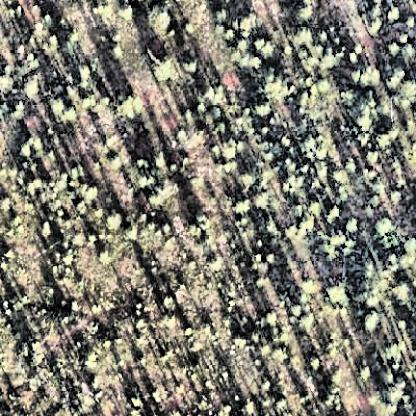tree-top: (140, 4, 172, 36), (151, 55, 183, 86), (262, 72, 294, 103), (113, 90, 143, 122), (350, 99, 376, 133), (51, 97, 79, 123), (353, 63, 380, 89), (134, 167, 160, 194), (325, 280, 352, 305), (384, 252, 414, 273), (235, 12, 259, 37), (384, 68, 408, 92), (254, 35, 279, 57), (383, 382, 406, 405), (189, 215, 209, 241), (101, 149, 123, 172), (394, 279, 415, 303), (362, 309, 384, 331), (147, 186, 169, 208), (252, 99, 275, 120), (22, 76, 43, 99), (233, 195, 255, 216), (97, 246, 119, 267), (294, 26, 316, 47), (51, 172, 72, 194), (1, 74, 18, 101), (17, 139, 37, 161), (238, 171, 259, 191), (301, 276, 322, 296), (376, 214, 396, 235), (81, 184, 101, 205), (355, 365, 374, 386), (253, 190, 275, 208), (221, 136, 238, 159), (107, 210, 126, 230), (205, 255, 225, 274), (326, 205, 345, 224), (299, 312, 318, 331), (388, 40, 406, 60), (297, 2, 316, 20), (387, 4, 406, 22), (307, 200, 326, 218), (148, 385, 167, 403), (12, 99, 31, 117), (270, 347, 290, 364), (345, 218, 363, 236), (364, 147, 382, 165), (120, 5, 137, 23), (128, 398, 145, 415), (332, 168, 350, 184), (77, 63, 91, 83), (32, 339, 46, 357), (243, 399, 259, 414)
